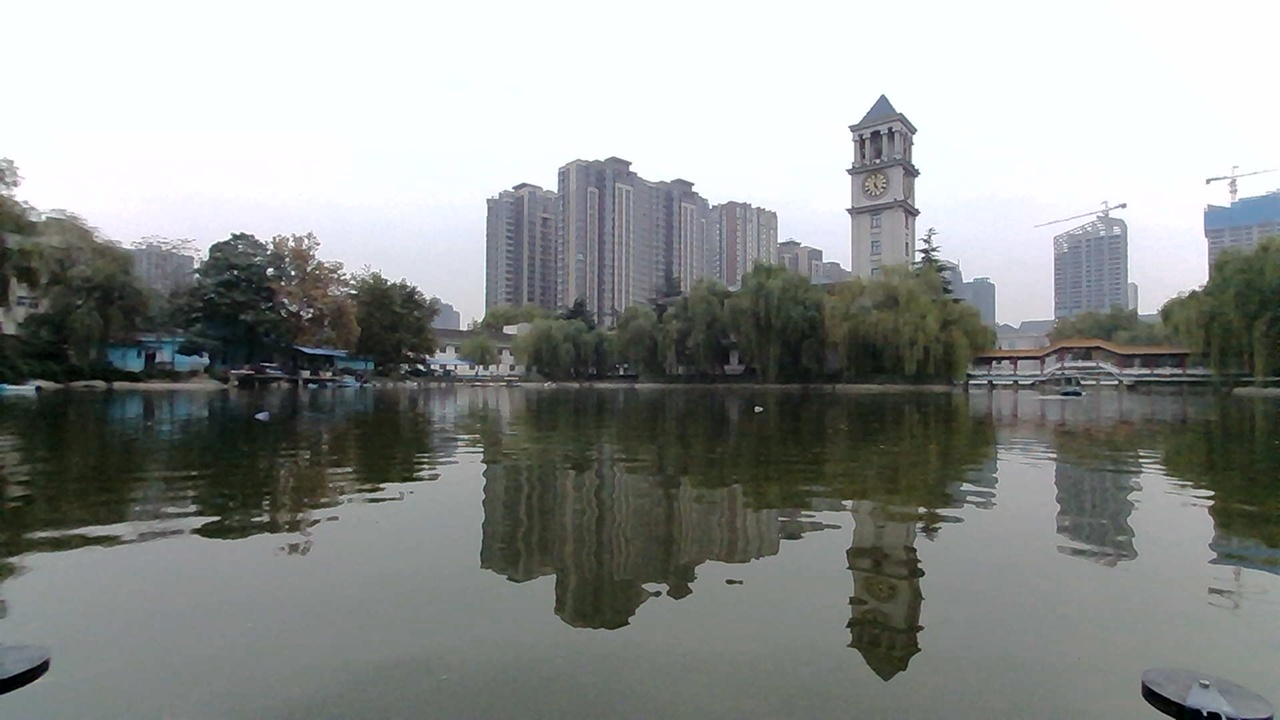bottle: (249, 395, 298, 432), (740, 393, 783, 422)
